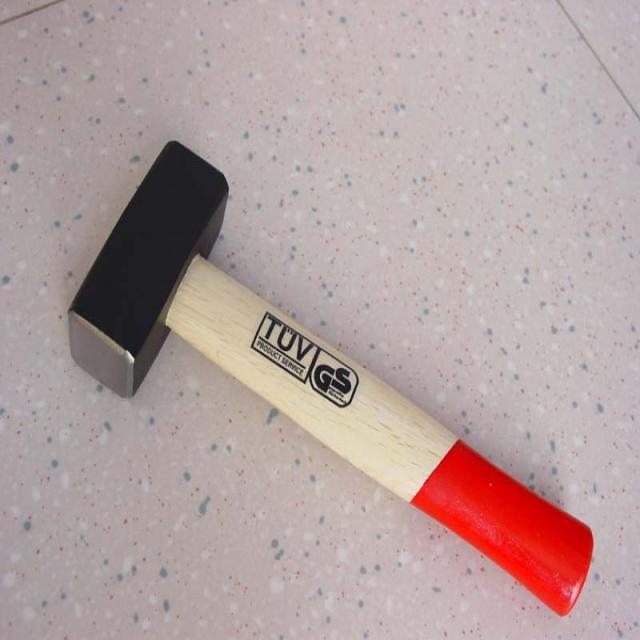hammer: (58, 120, 607, 623)
